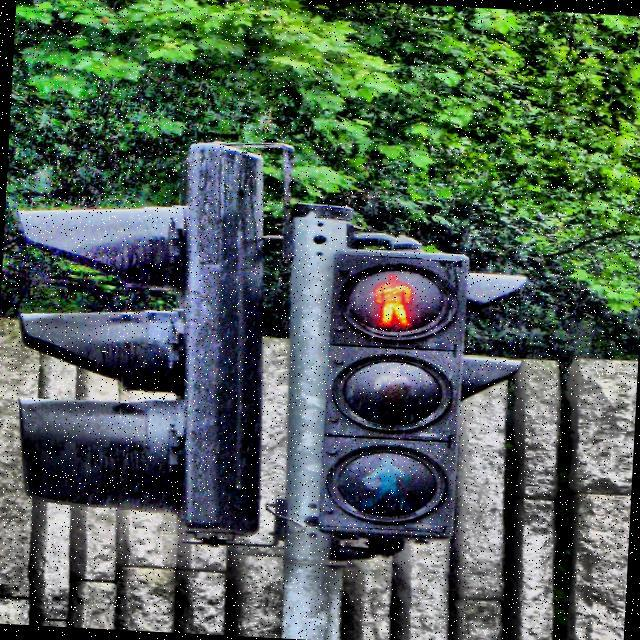red_light: (367, 270, 416, 330)
